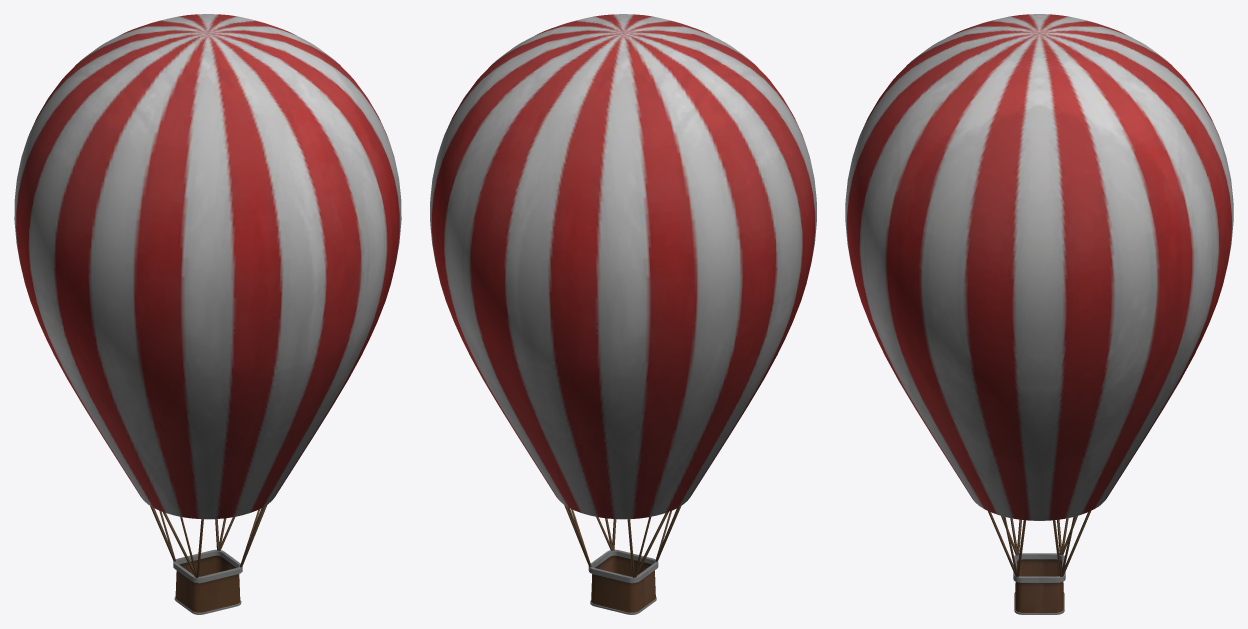
Rendered from Montgolfière.glb.
The picture shows the model from 3 angles, left to right: view 1: azimuth 30°, elevation 25°; view 2: azimuth 150°, elevation 25°; view 3: azimuth 270°, elevation 25°; orthographic projection.
Visible parts, largest first — view 1: SM_AirBalloon; view 2: SM_AirBalloon; view 3: SM_AirBalloon.
Boxes of the visible parts, bbox=[...] form: SM_AirBalloon: bbox=[14, 14, 401, 614]; SM_AirBalloon: bbox=[430, 14, 816, 614]; SM_AirBalloon: bbox=[845, 14, 1233, 614].
Bounding box in the file's own units: 10.4 × 16.91 × 10.4.
1 material, 1 textured.
